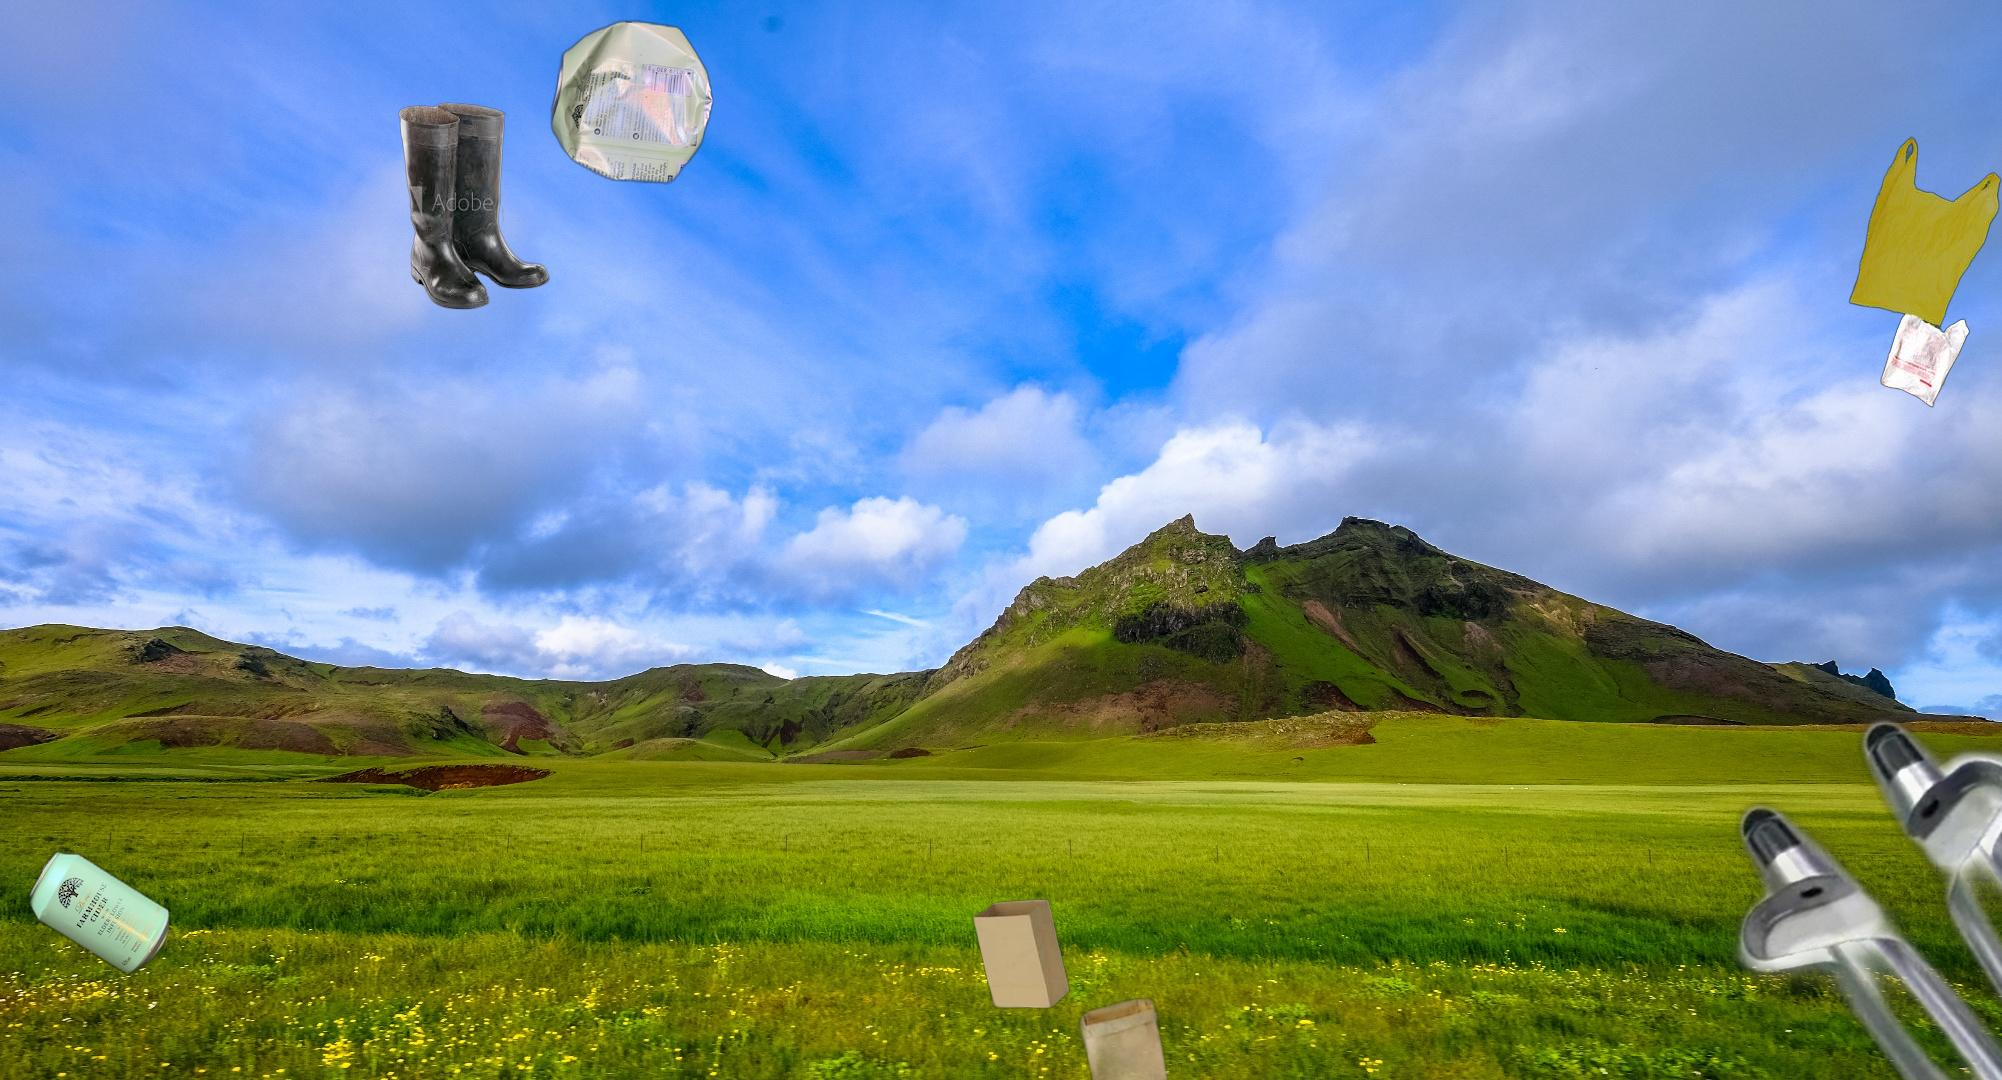metal-cans: (546, 15, 718, 189), (24, 845, 175, 980)
paper-bag: (970, 896, 1188, 1080)
penholder: (1414, 176, 2002, 1080)
plastic-bag: (1846, 136, 2002, 410)
shoes: (396, 100, 552, 313)
